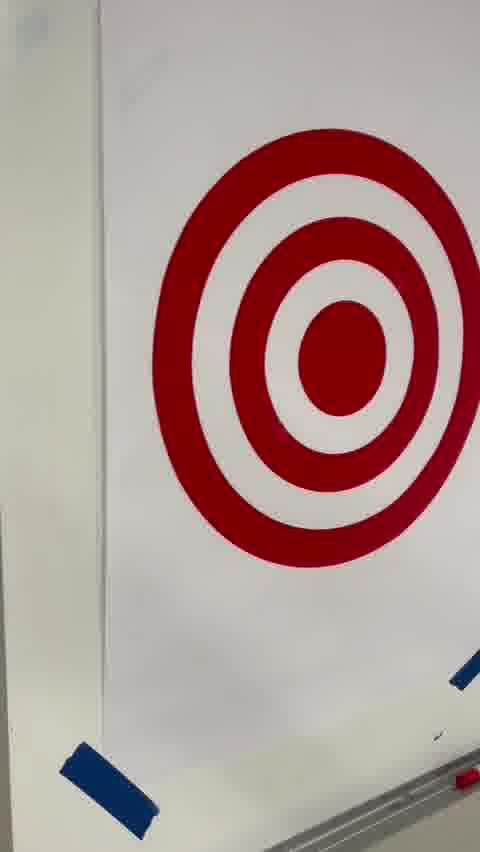target_red: (152, 128, 480, 569)
